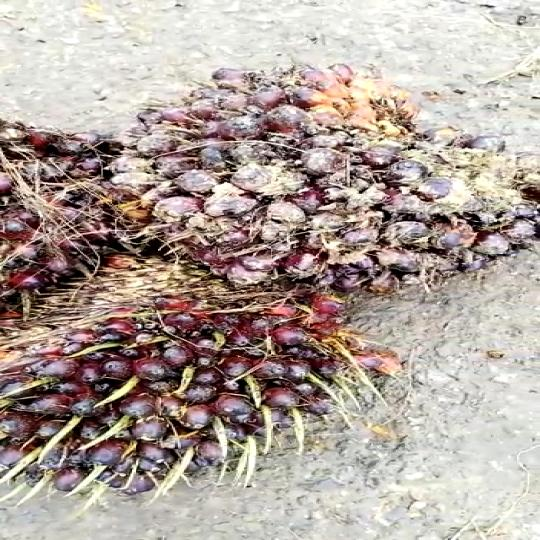kurang masak: (114, 54, 540, 286), (0, 254, 374, 495)
